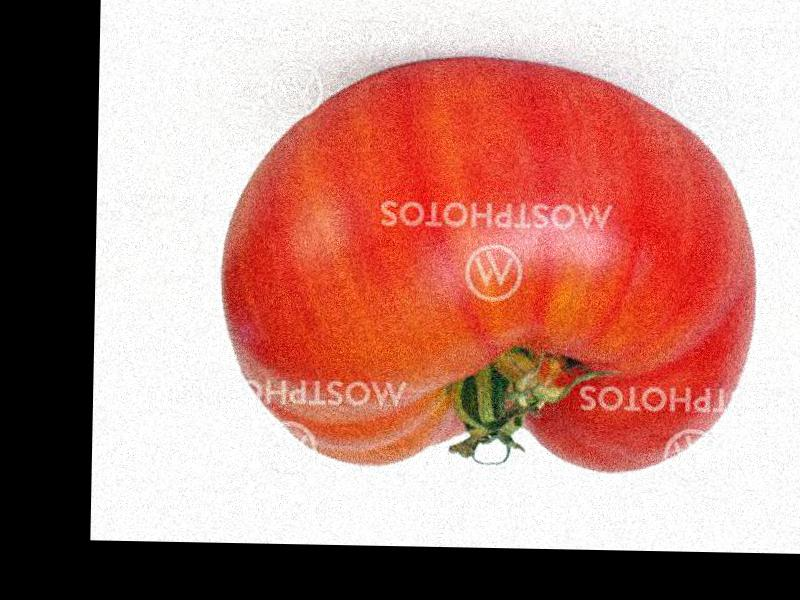Tomato: (217, 54, 758, 475)
